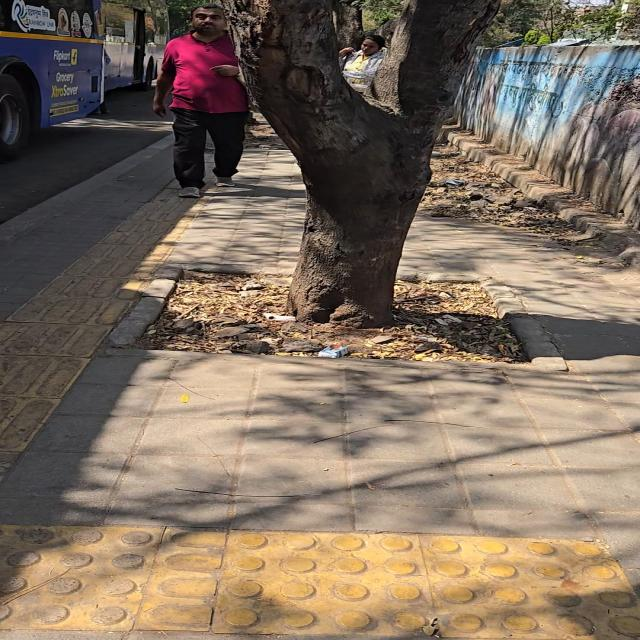obstacle: (225, 0, 498, 327)
person: (123, 0, 274, 210), (480, 0, 539, 46), (334, 0, 364, 48), (363, 0, 403, 26)
